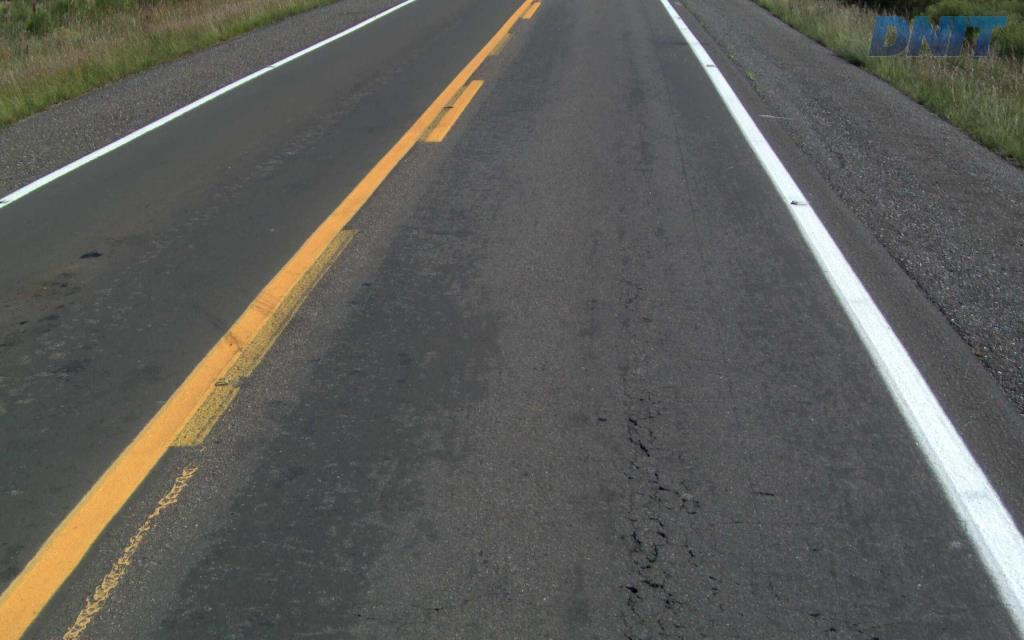crack: (619, 516, 696, 615), (617, 582, 645, 625)
